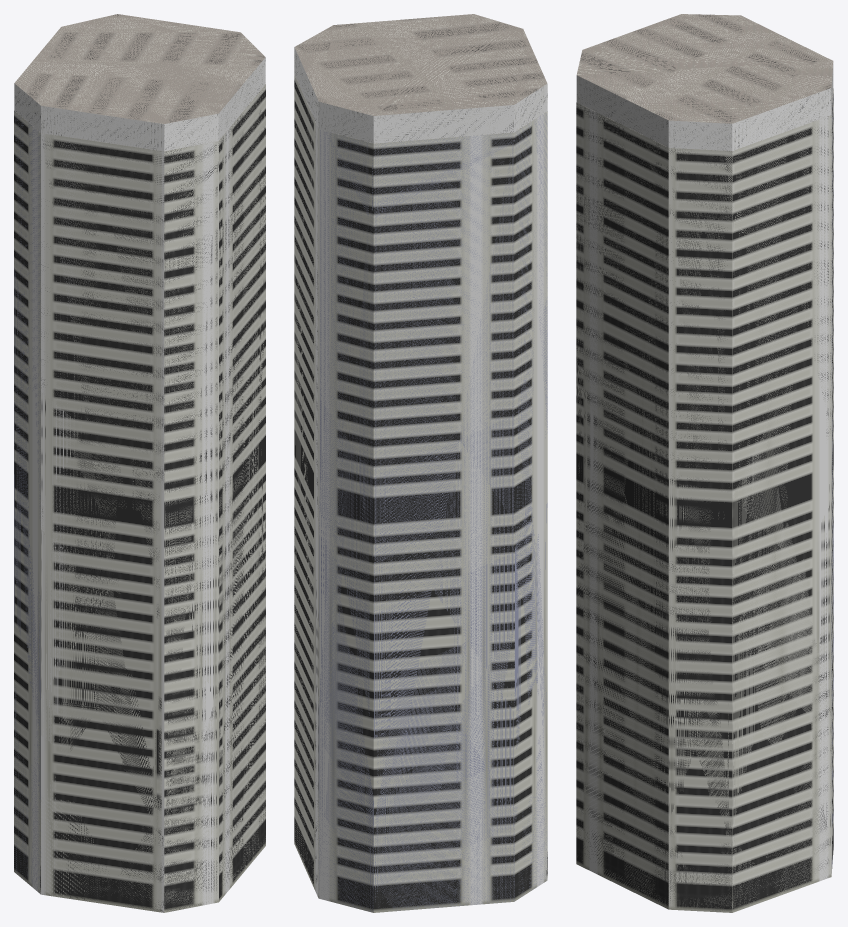
File: mlc.dae
3 renders of one model, left to right at view 1: azimuth 30°, elevation 25°; view 2: azimuth 150°, elevation 25°; view 3: azimuth 270°, elevation 25°, orthographic.
Parts seen in each view (by area): view 1: SketchUp (×5); view 2: SketchUp (×4); view 3: SketchUp (×4).
Part boxes in pixels (box(x1,y1,x2,y2)): SketchUp (×5): box(14, 14, 265, 912); SketchUp (×4): box(294, 14, 547, 912); SketchUp (×4): box(576, 14, 833, 912).
Size of the model in its own units: 2258 by 2230 by 7554.
14 materials, 11 textured.
